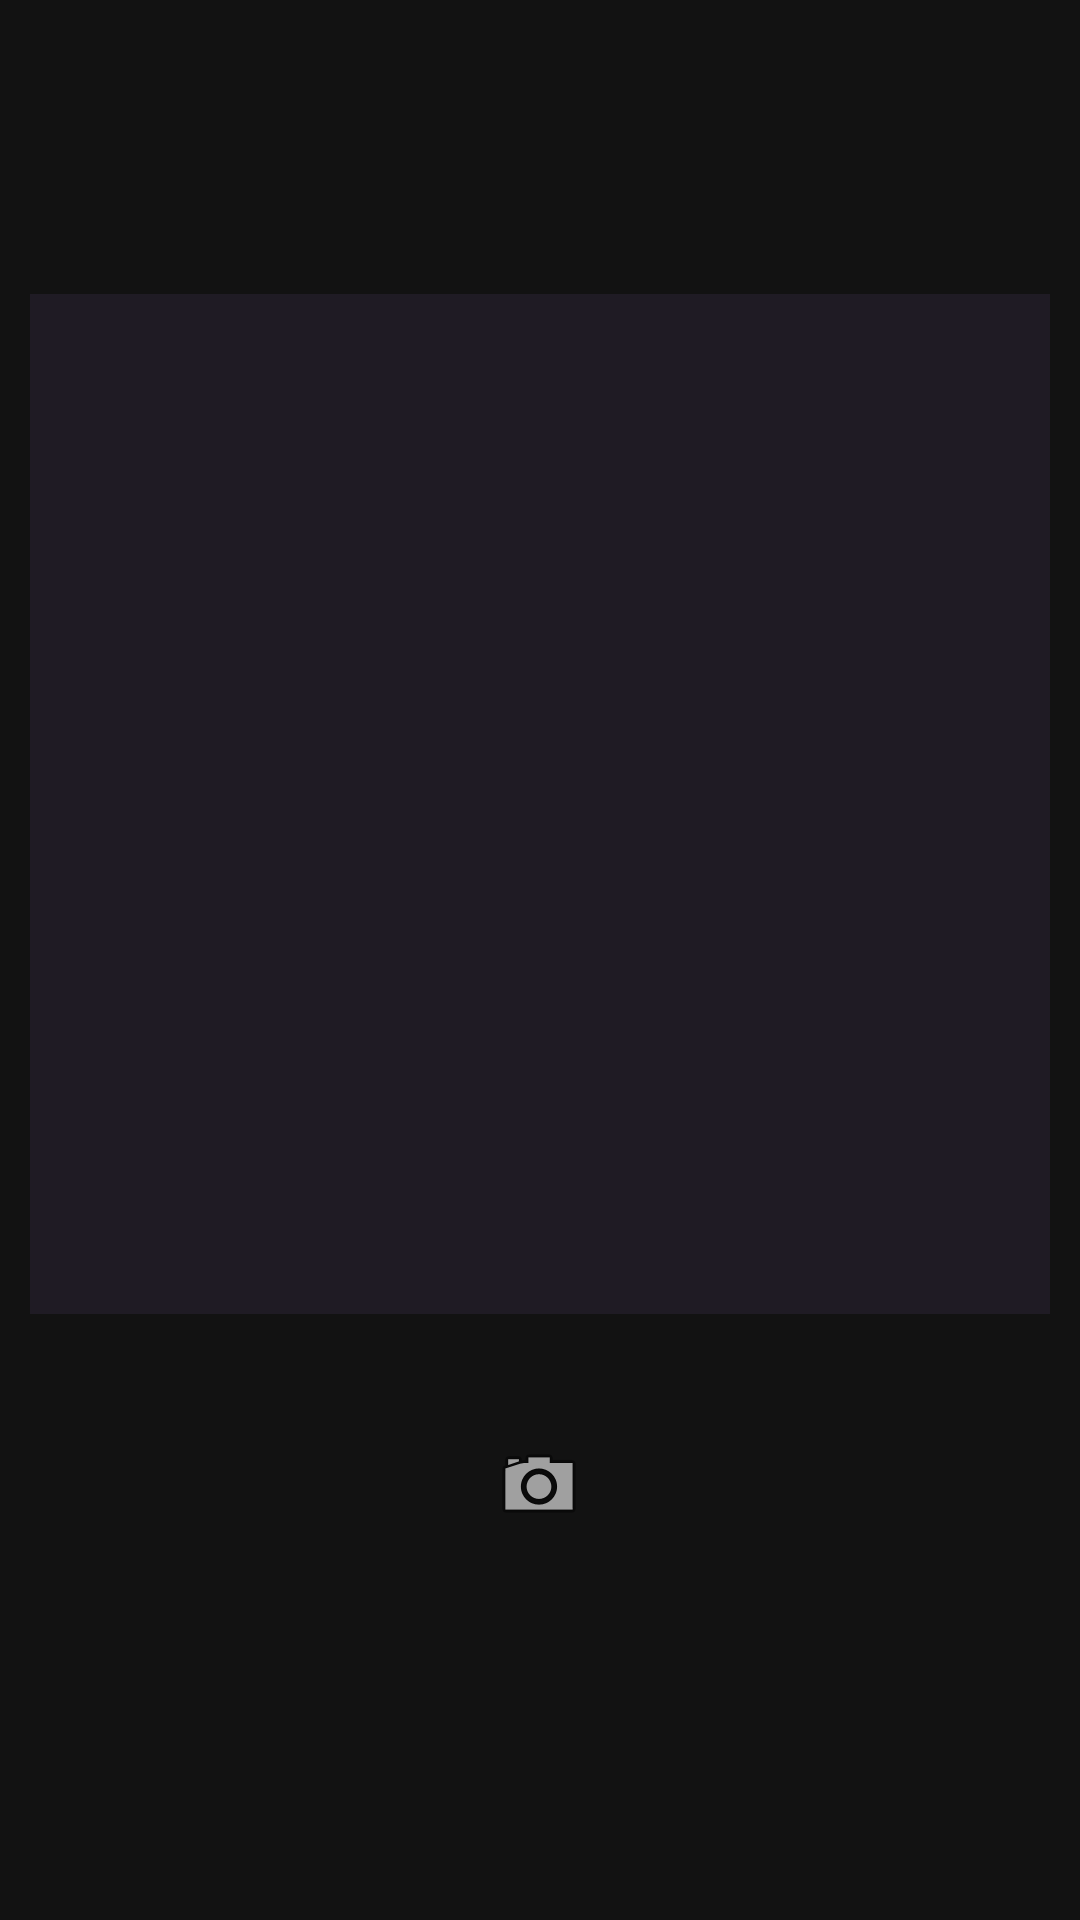

Named icons in this screenshot (1080 x 1920) and their centers, (x,y):
camera: (539,1483)
